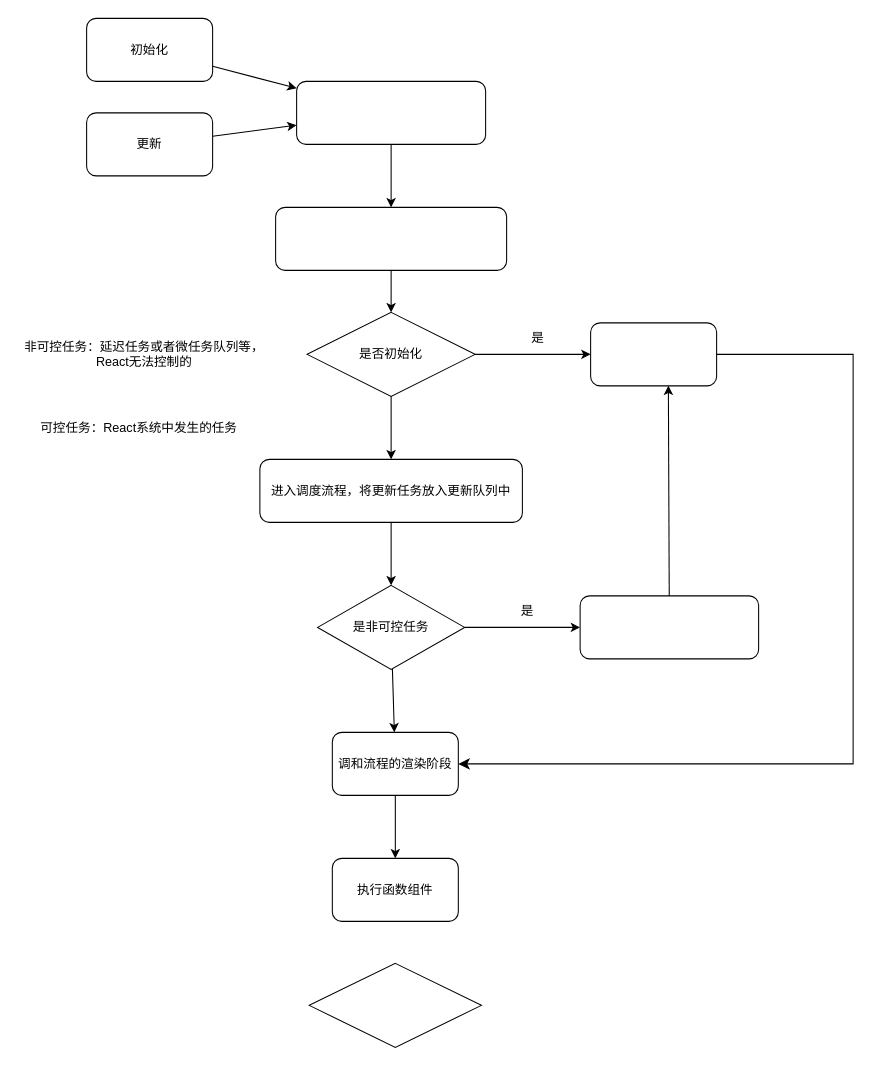
This 882x1066 diagram has some shape labels left out. Here are the shapes that lost their labels. From the top down, the centre of each, then its label:
At (x=391, y=112): "scheduleUpdateOnFiber".
At (x=391, y=238): "通过当前优先级lane，更新父级链表上的所有优先级childLanes".
At (x=653, y=354): "进入调和阶段，更新Fiber树的状态".
At (x=669, y=627): "调用flushSyncCallbackQueue执行任务队列里的任务".
